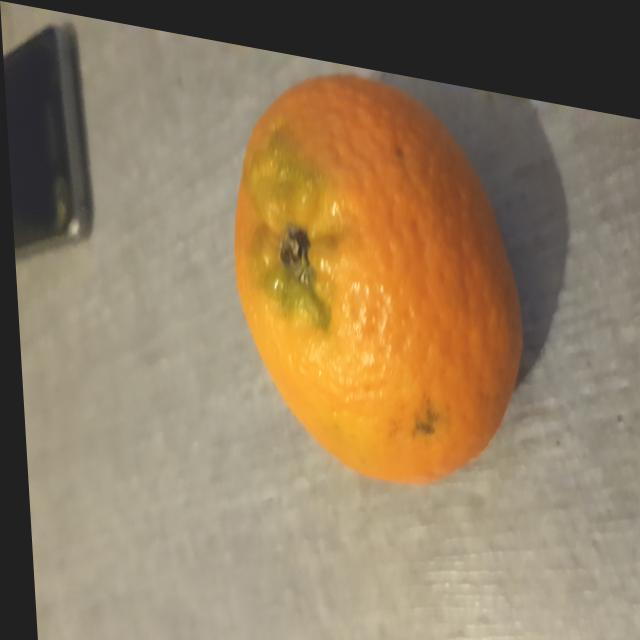Orange: (232, 59, 522, 471)
